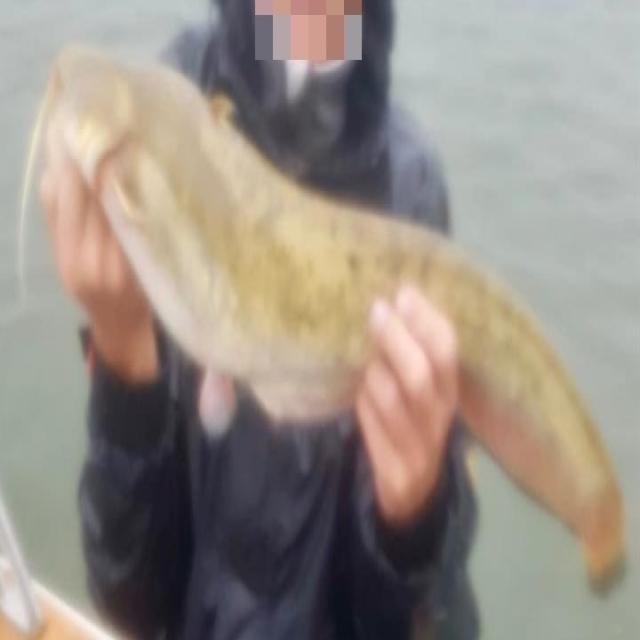Catfish: (27, 42, 632, 616), (137, 52, 623, 293), (624, 293, 632, 620), (27, 44, 131, 50)
